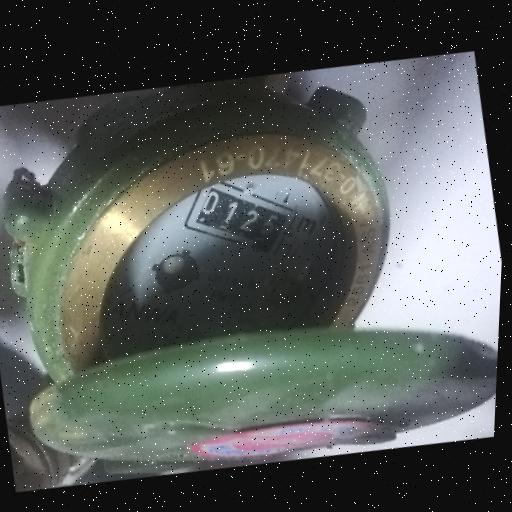0: (188, 181, 234, 234)
1: (207, 188, 252, 239)
2: (225, 195, 271, 246)
5: (240, 201, 295, 261)
border_water_meter_number: (172, 156, 310, 282)
